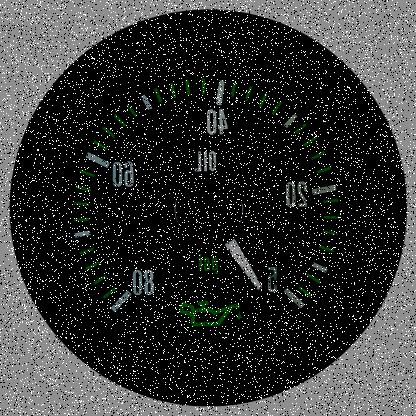needle: (221, 233, 263, 291)
